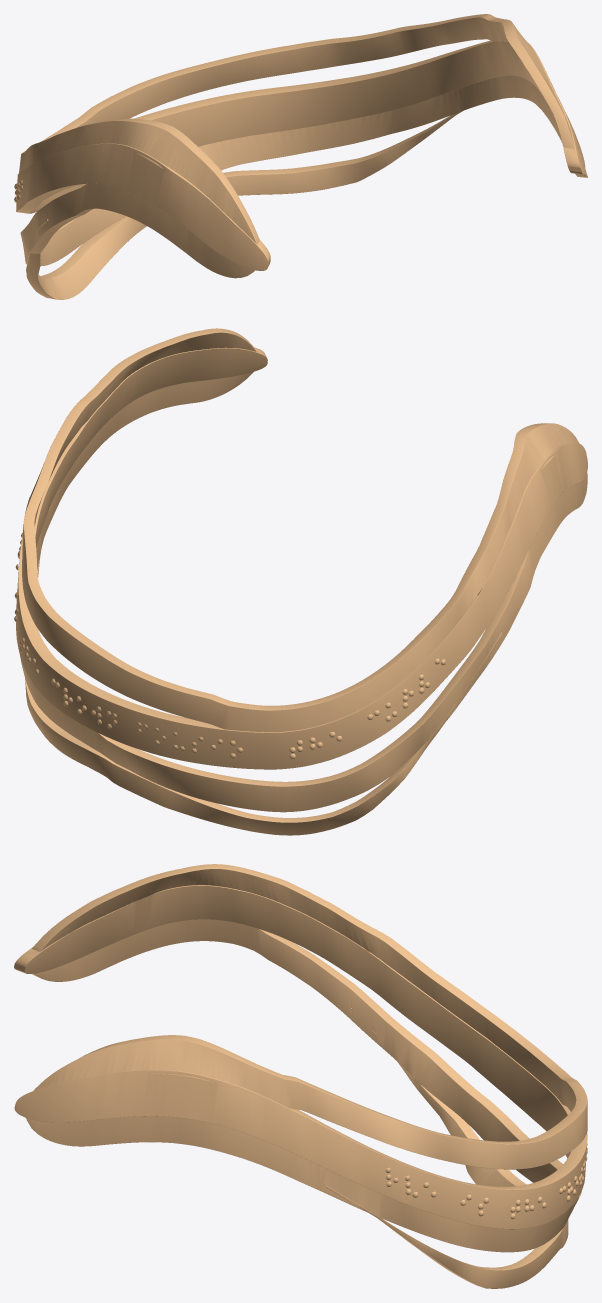
Rendered from circlet-e.glb.
The picture shows the model from 3 angles, top to bottom: view 1: azimuth 30°, elevation 25°; view 2: azimuth 150°, elevation 25°; view 3: azimuth 270°, elevation 25°; orthographic projection. The views are drawn at different scales.
Visible parts, largest first — view 1: crown-body; view 2: crown-body, braille-dots; view 3: crown-body, braille-dots.
Boxes of the visible parts, bbox=[...] form: crown-body: bbox=[16, 14, 587, 299]; crown-body: bbox=[16, 328, 587, 835]; braille-dots: bbox=[14, 533, 446, 758]; crown-body: bbox=[14, 864, 587, 1288]; braille-dots: bbox=[385, 1144, 587, 1219].
Size of the model in its own units: 0.1746 by 0.1106 by 0.1866.
